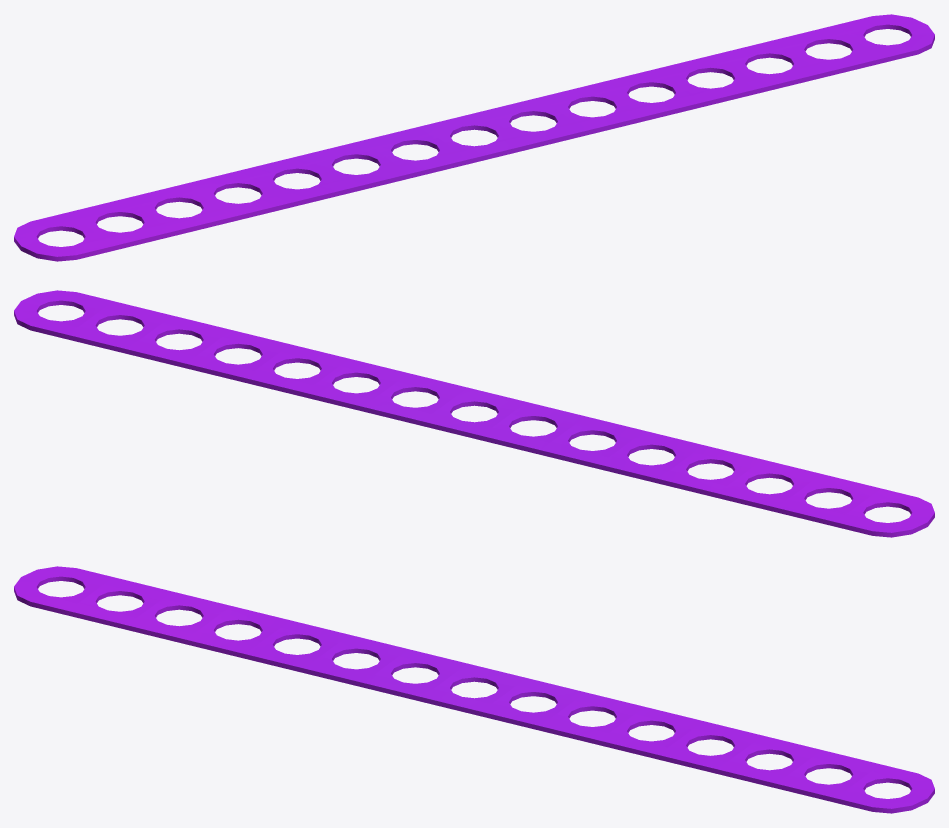
Rendered from FifteenLongPink.fbx.
The picture shows the model from 3 angles, top to bottom: view 1: azimuth 30°, elevation 25°; view 2: azimuth 150°, elevation 25°; view 3: azimuth 330°, elevation 25°; orthographic projection.
Parts seen in each view (by area): view 1: Blue15; view 2: Blue15; view 3: Blue15.
Boxes of the visible parts, <box> form: Blue15: <box>14,14,934,261</box>; Blue15: <box>14,290,934,537</box>; Blue15: <box>14,566,934,813</box>.
Bounding box in the file's own units: 39.25 × 0.1942 × 3.45.
